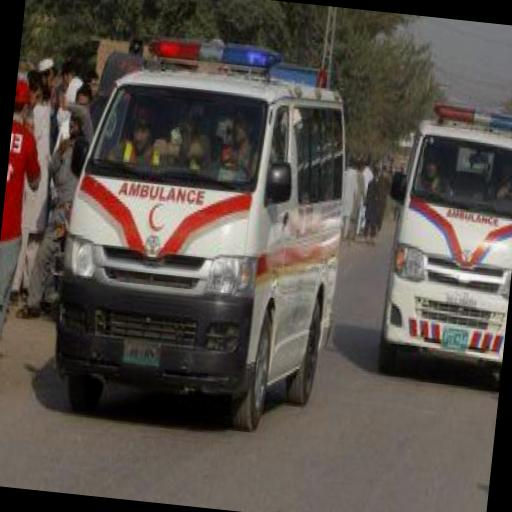Police car: (42, 22, 363, 442), (374, 103, 512, 390)
